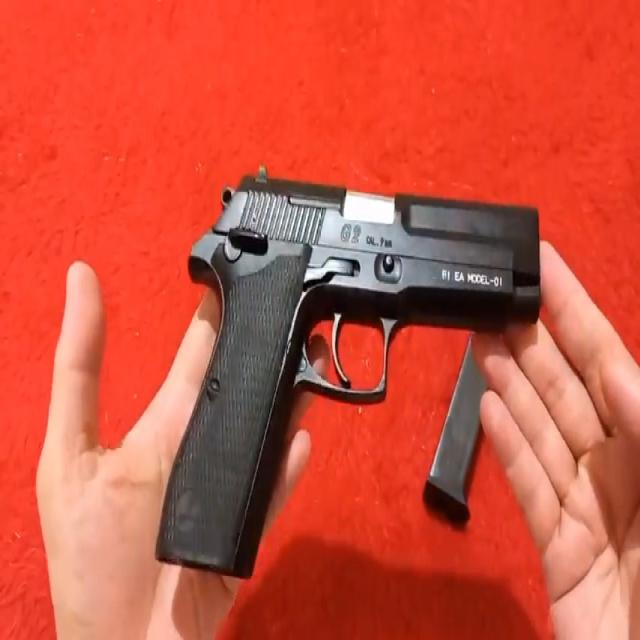handgun: (142, 175, 550, 590)
